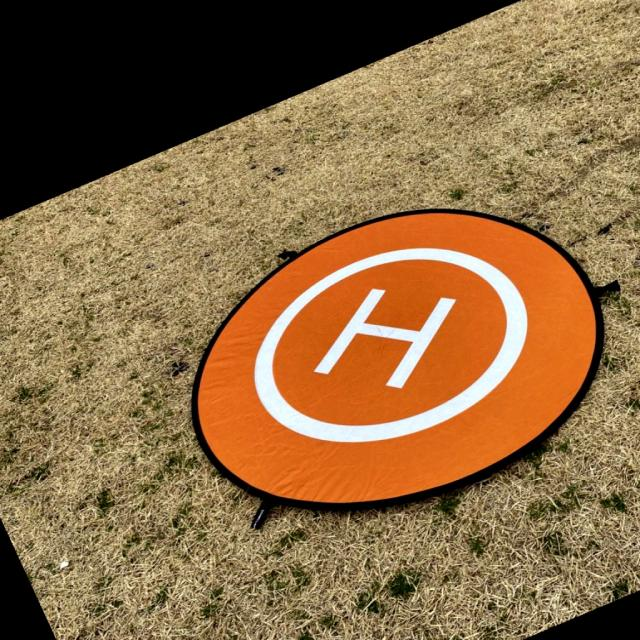helipad: (250, 241, 529, 448)
